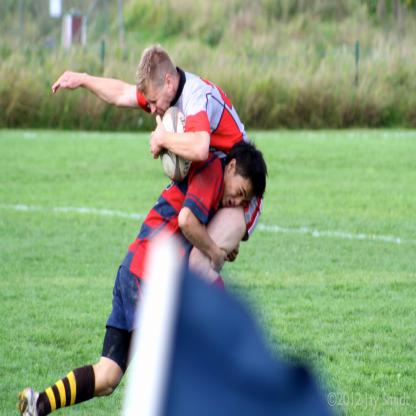Ball: (161, 106, 191, 180)
